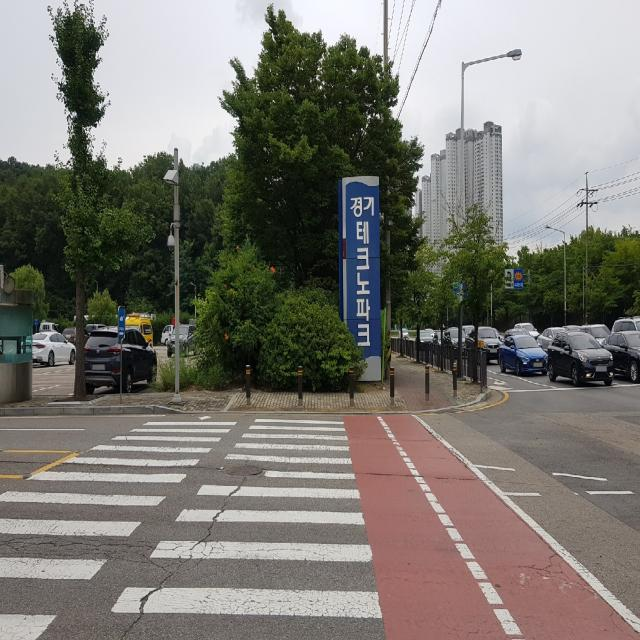횡단보도: (0, 413, 382, 640)
